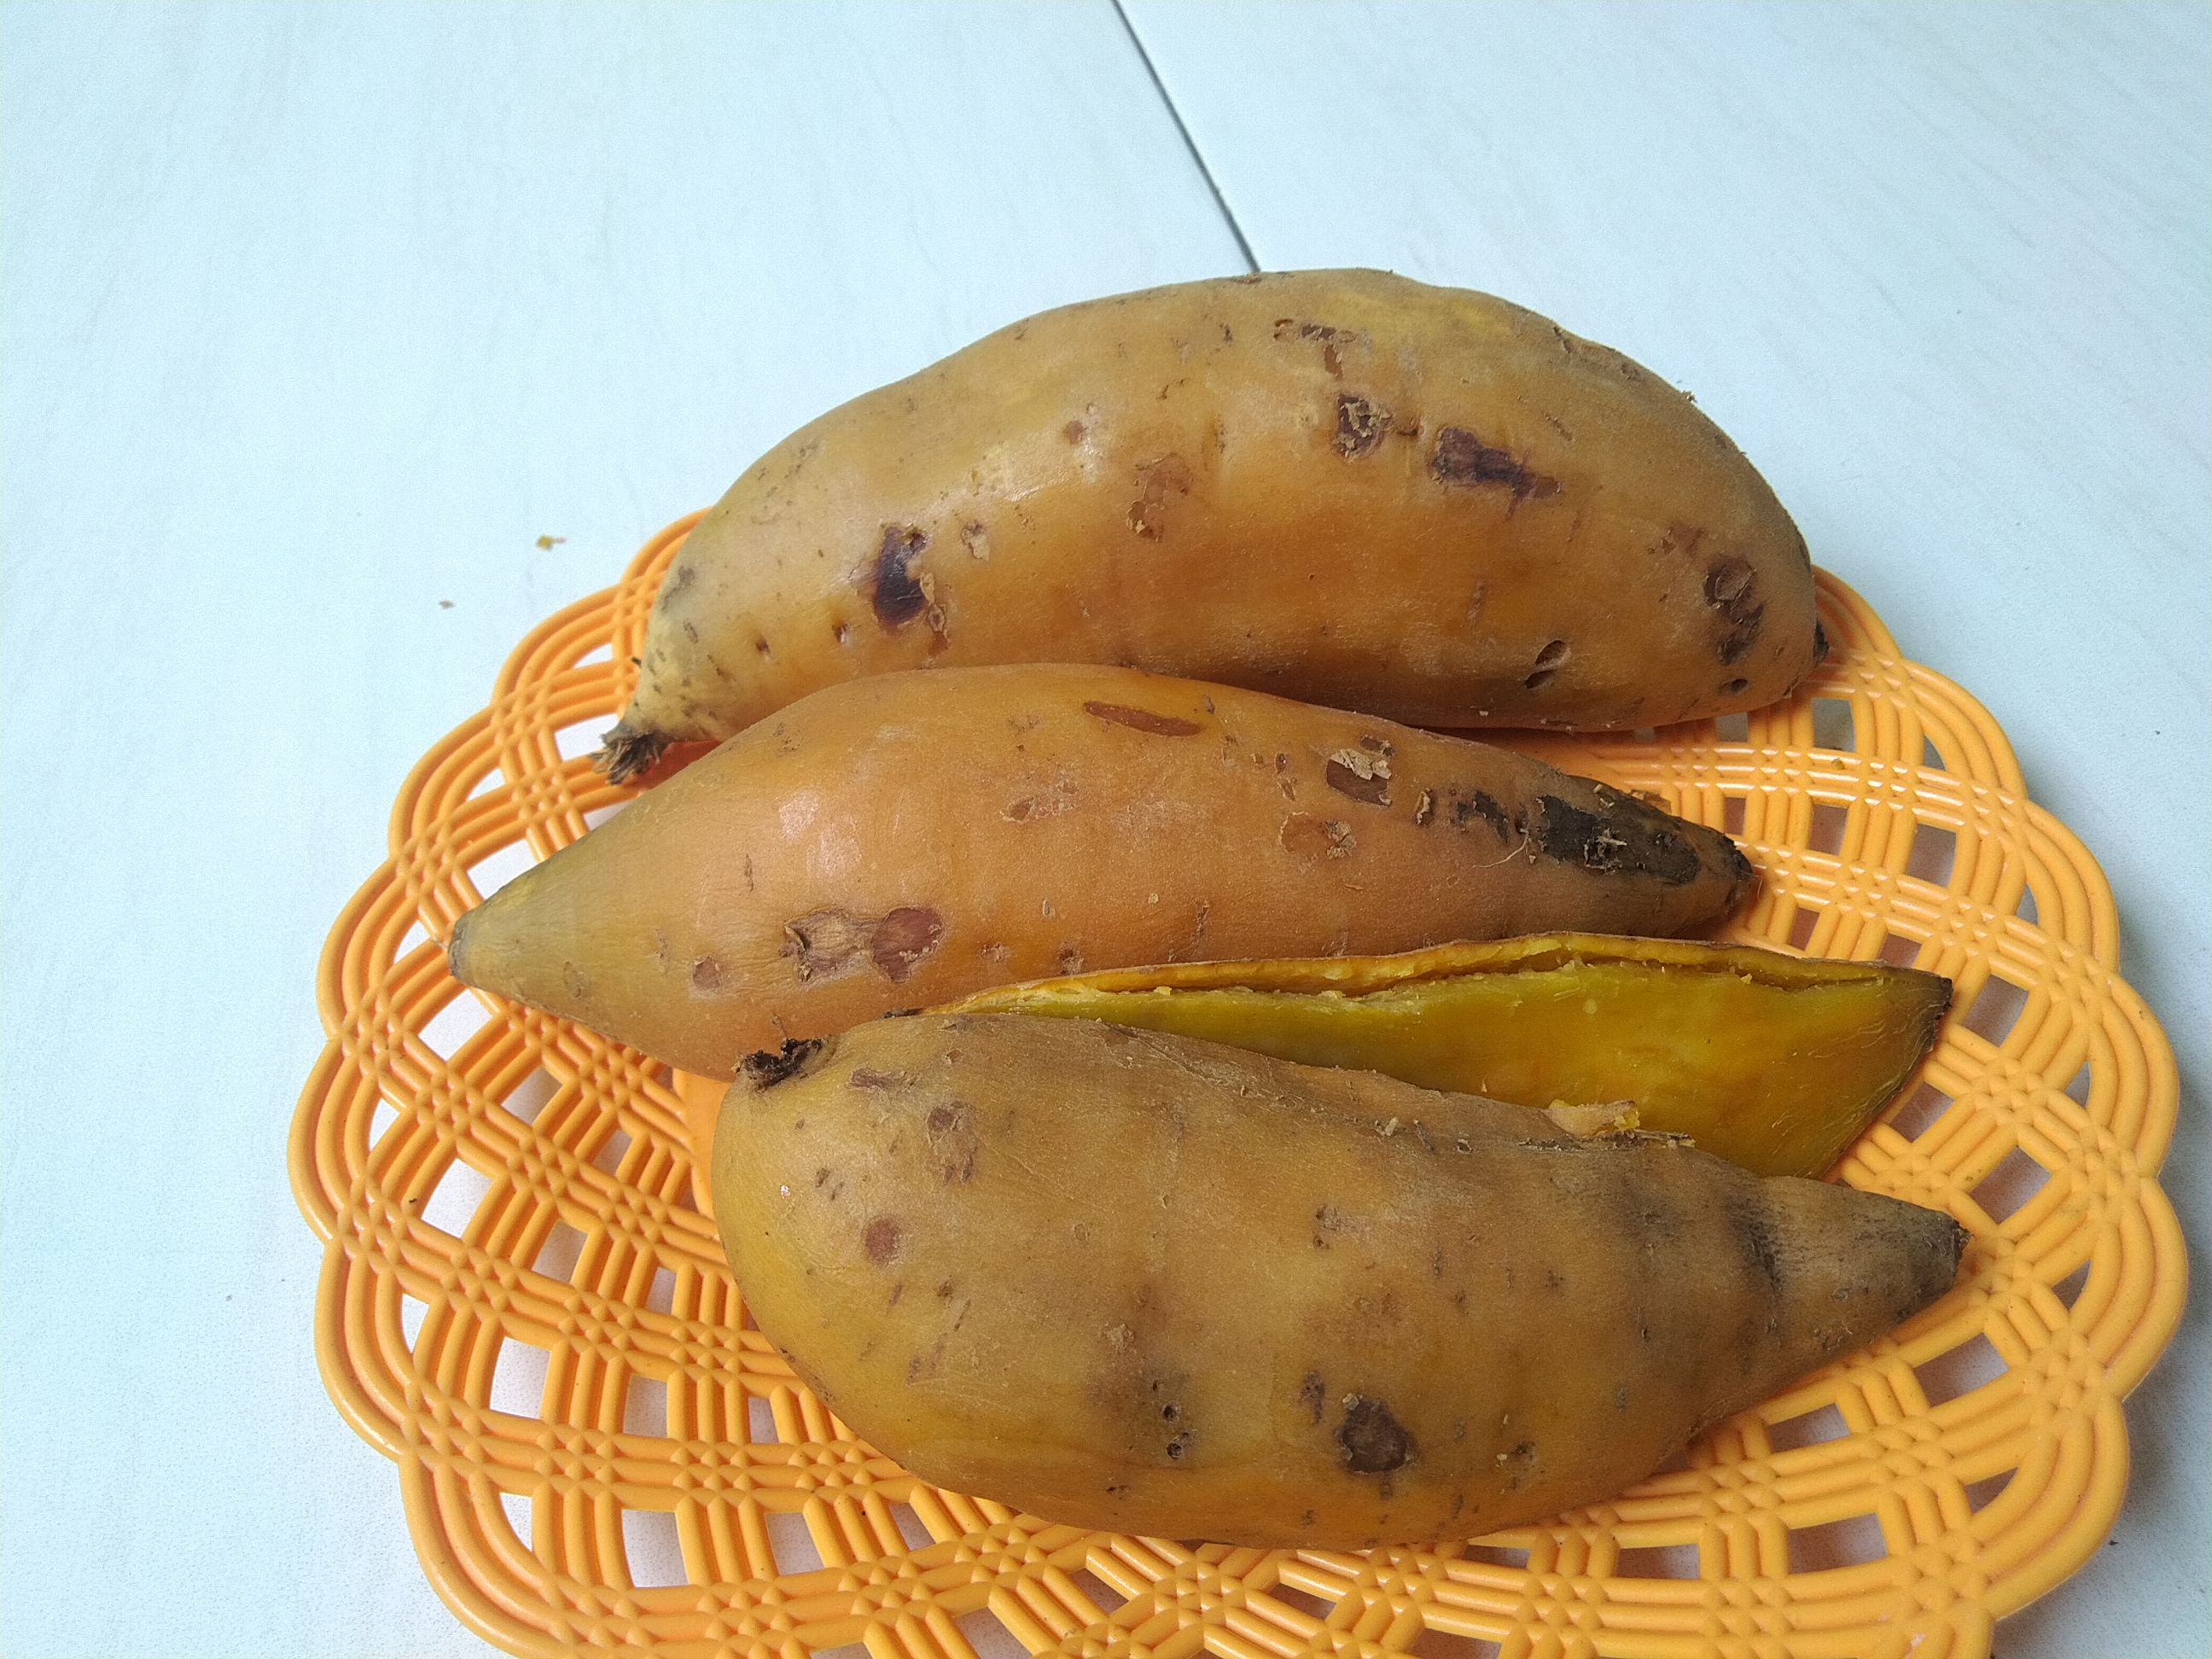ubi cilembu: (695, 945, 2074, 1556), (592, 256, 1865, 796), (732, 1023, 1970, 1525), (435, 662, 1780, 1061)
